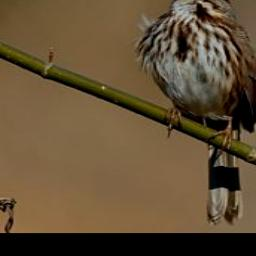Sparrow: (132, 0, 256, 226)
